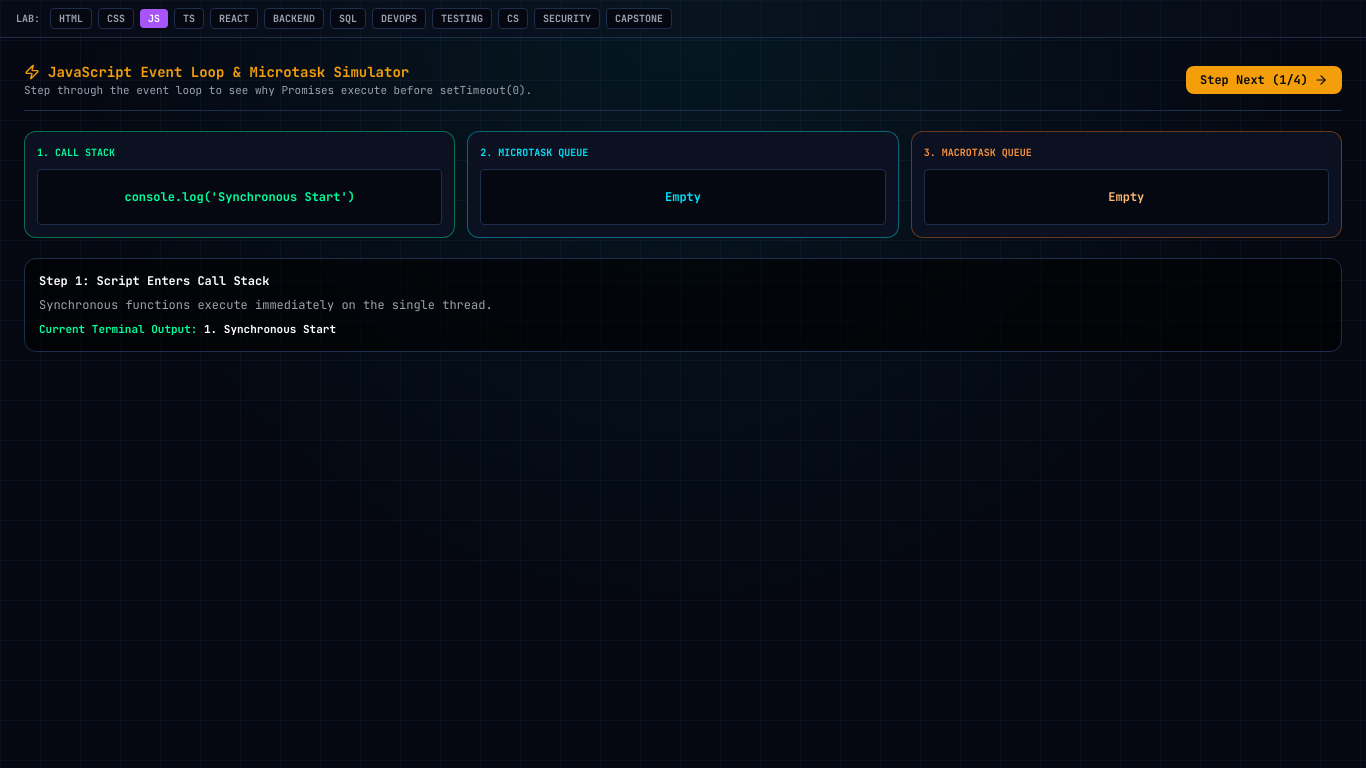
Scenario: RealmConceptVisualizer Component › switches to JavaScript lab and steps through event loop phases
This screenshot has width=1366, height=768.
Expected: the heading "JavaScript Event Loop & Microtask Simulator" is shown, [24, 63, 409, 81]
Expected: the text "Step 1: Script Enters Call Stack" is shown, [39, 273, 269, 289]
Click the button "Step Next (1/4)": (1264, 80) [1186, 66, 1342, 94]
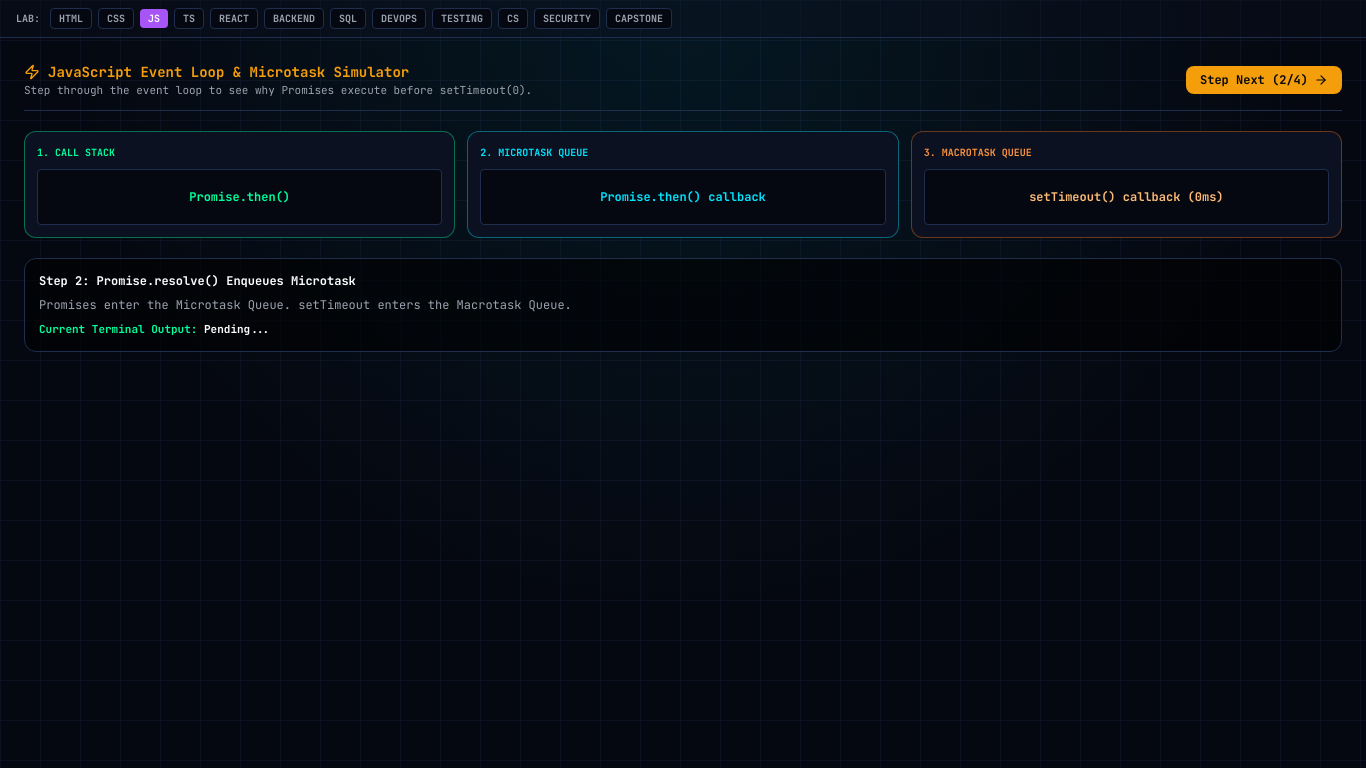
Expected: the text "Step 2: Promise.resolve() Enqueues Microtask" is shown, [39, 273, 356, 289]
